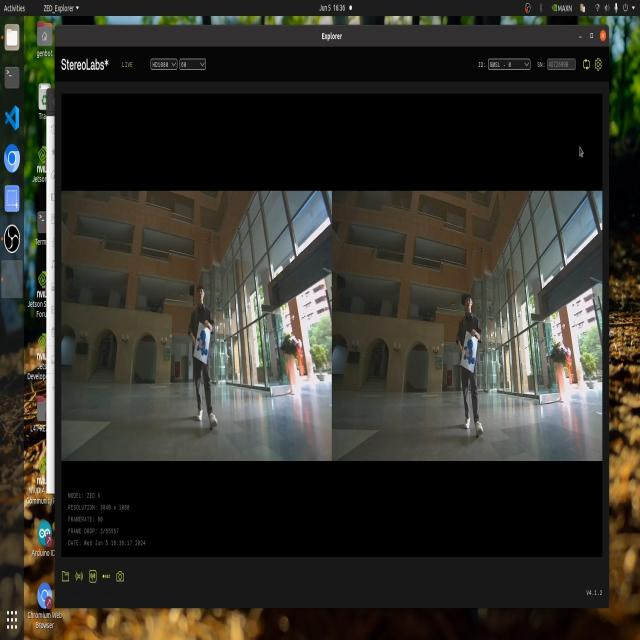blue: (192, 323, 218, 367), (462, 335, 480, 371)
